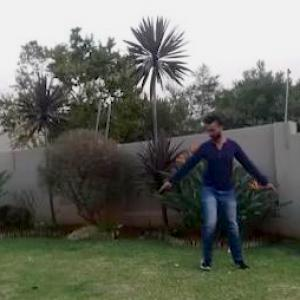land: (135, 106, 282, 287)
